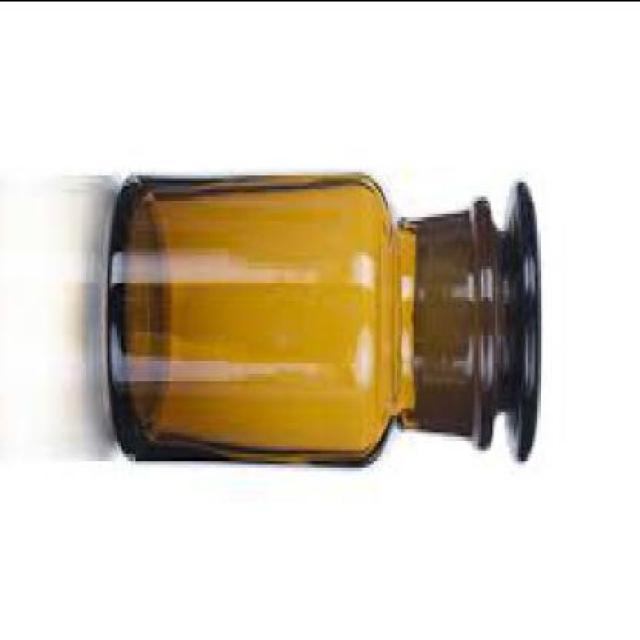GLASS: (110, 167, 542, 465)
